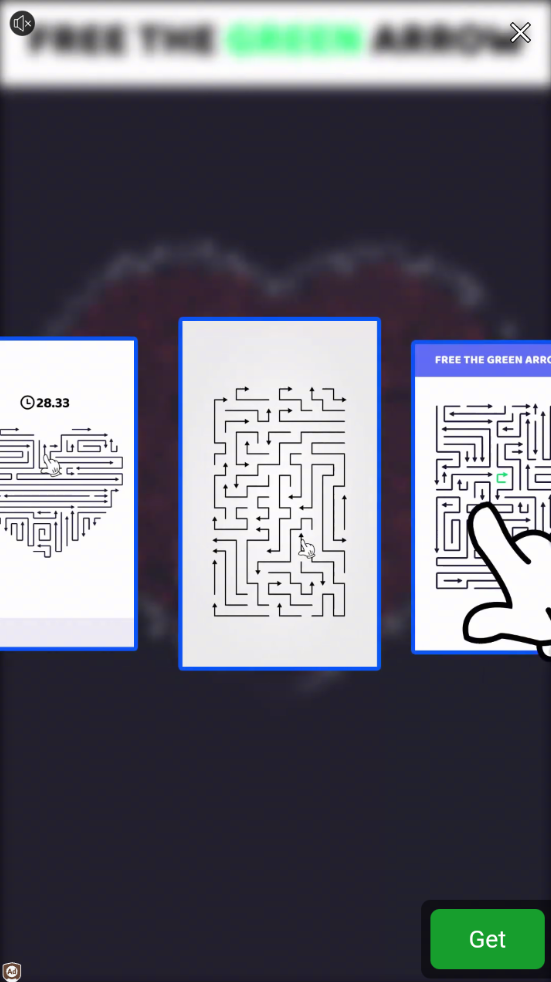close_button: (503, 13, 534, 50)
